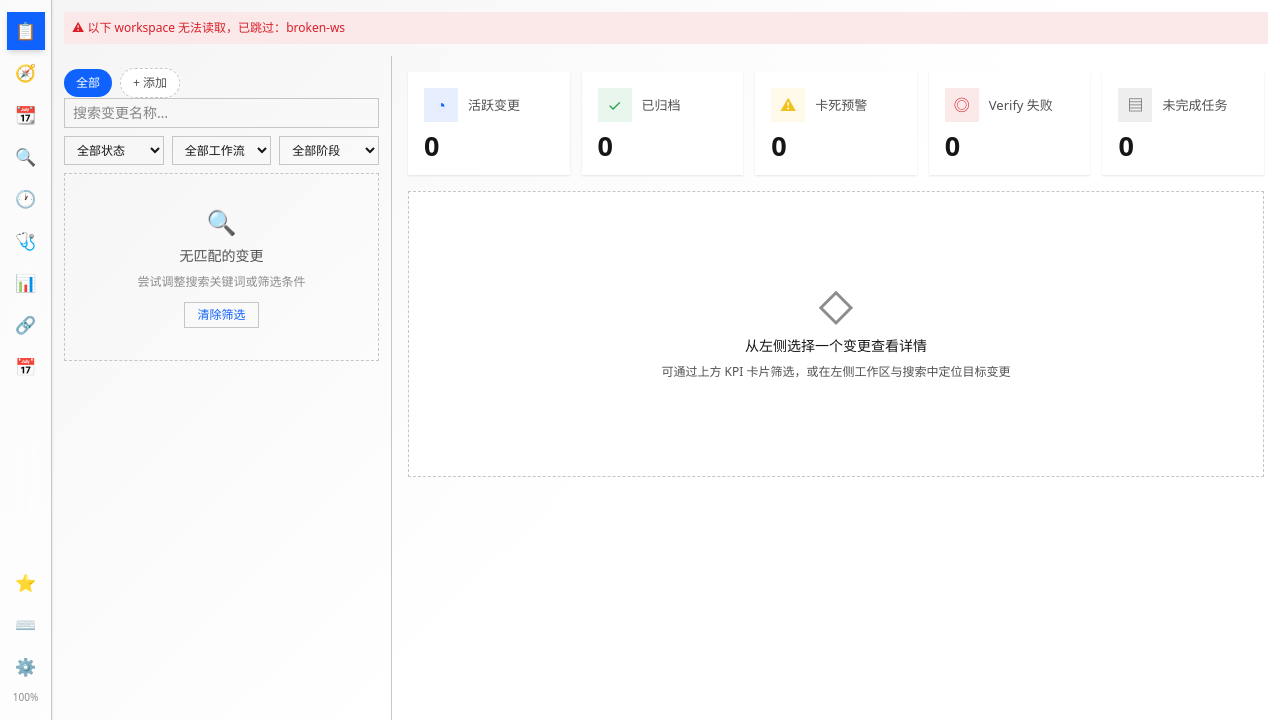
it: App view switcher › switches to the 最近 view and mounts RecentPanel
The width and height of the screenshot is (1280, 720).
expect the text "⚠ 以下 workspace 无法读取，已跳过：broken-ws" is shown: met, box [64, 12, 1268, 44]
Click the button named "最近更新": (26, 199) [6, 180, 44, 218]
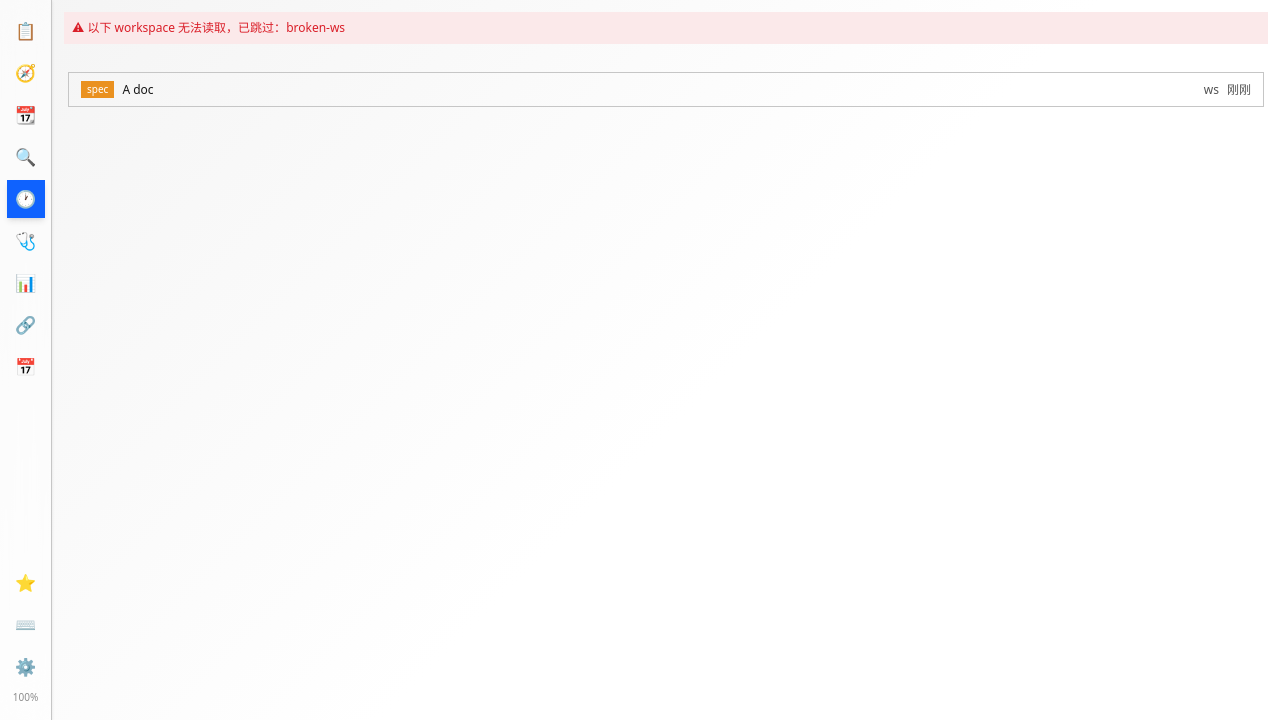
expect the text "A doc" is shown: met, box [122, 81, 154, 98]
expect the element with test id "kpi-grid" is gone: met
